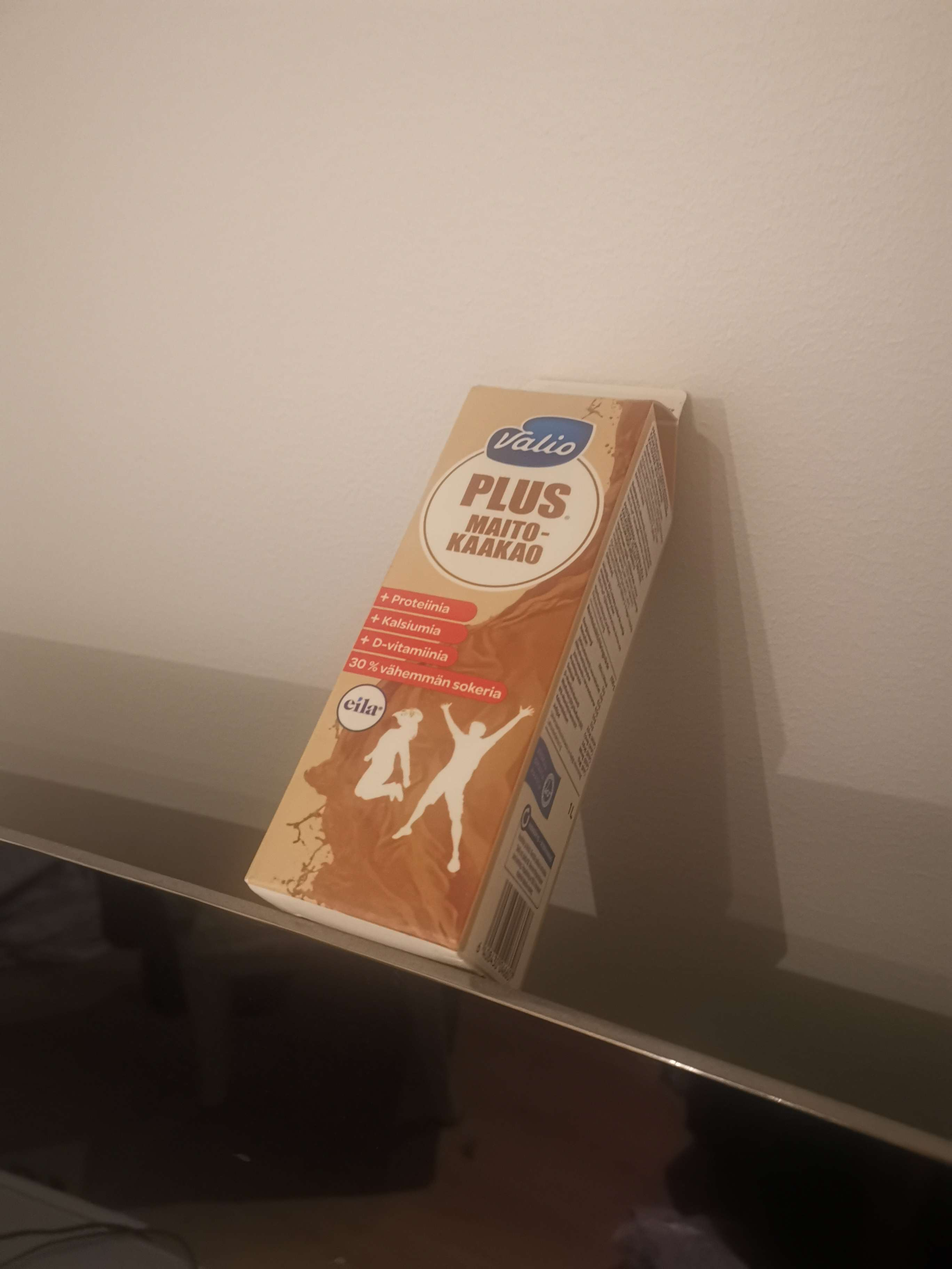Dryckeskartong: (244, 373, 691, 992)
